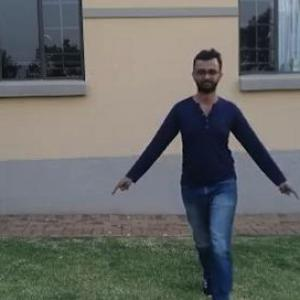land: (124, 47, 292, 299)
